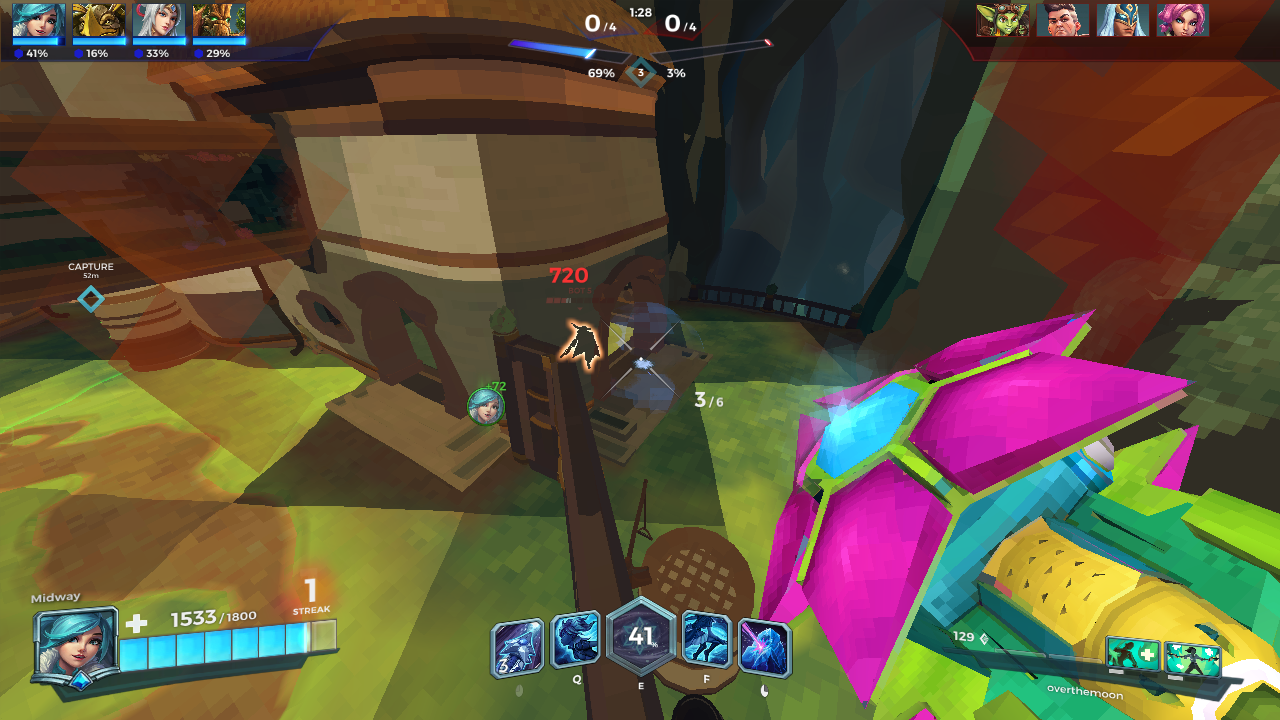model: (556, 315, 599, 372)
